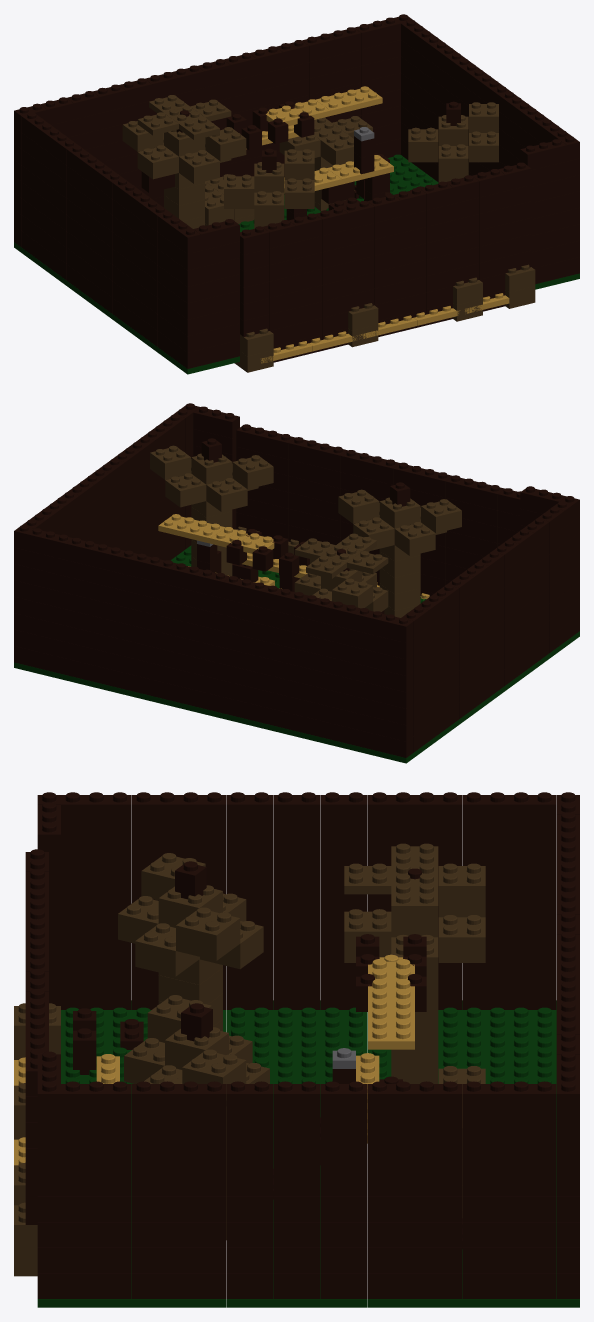
The picture shows the model from 3 angles, top to bottom: view 1: azimuth 30°, elevation 25°; view 2: azimuth 150°, elevation 25°; view 3: azimuth 270°, elevation 25°; orthographic projection. The views are drawn at different scales.
Parts seen in each view (by area): view 1: Part.146, Part.107, Part.108, Part.111, Part.433, Part.434, Part.144, Part.423, Part.424, Part.425, Part.426, Part.431 (+91 smaller); view 2: Part.443, Part.146, Part.422, Part.434, Part.428, Part.427, Part.431, Part.433, Part.432, Part.429, Part.430, Part.444 (+76 smaller); view 3: Part.437, Part.1, Part.443, Part.431, Part.146, Part.109, Part.425, Part.0, Part.432, Part.512, Part.506, Part.508 (+183 smaller).
Part boxes in pixels (<box>): Part.146: <box>316,86,382,115</box>; Part.107: <box>137,145,178,179</box>; Part.108: <box>179,150,219,183</box>; Part.111: <box>205,127,246,161</box>; Part.433: <box>224,174,254,205</box>; Part.434: <box>408,127,438,158</box>; Part.144: <box>266,99,330,126</box>; Part.423: <box>254,191,284,221</box>; Part.424: <box>438,144,468,174</box>; Part.425: <box>284,178,314,208</box>; Part.426: <box>469,131,498,162</box>; Part.431: <box>284,149,314,179</box>; Part.443: <box>249,720,451,763</box>; Part.146: <box>158,514,224,543</box>; Part.422: <box>165,473,206,507</box>; Part.434: <box>232,455,273,489</box>; Part.428: <box>206,478,247,511</box>; Part.427: <box>394,522,435,555</box>; Part.431: <box>338,489,379,523</box>; Part.433: <box>421,499,461,533</box>; Part.432: <box>150,445,190,479</box>; Part.429: <box>379,497,420,528</box>; Part.430: <box>191,453,232,484</box>; Part.444: <box>92,681,249,724</box>; Part.437: <box>226,1000,367,1119</box>; Part.1: <box>368,1000,509,1083</box>; Part.443: <box>438,1000,556,1119</box>; Part.431: <box>176,907,240,960</box>; Part.146: <box>368,999,414,1049</box>; Part.109: <box>438,915,485,962</box>; Part.425: <box>135,923,199,976</box>; Part.0: <box>85,1001,225,1116</box>; Part.432: <box>182,1049,246,1100</box>; Part.512: <box>509,792,556,830</box>; Part.506: <box>226,792,273,830</box>; Part.508: <box>320,792,367,830</box>.
Size of the model in its own units: 240 by 94.58 by 192.
